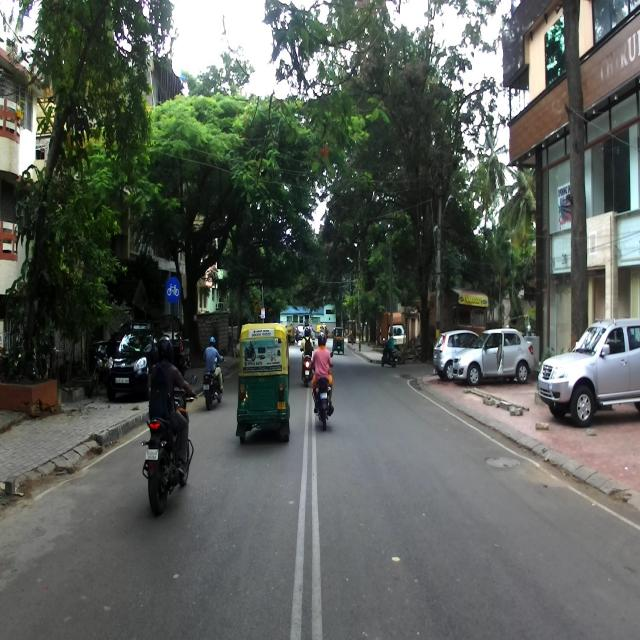autorickshaw: (234, 319, 290, 445)
car: (537, 320, 640, 422), (449, 331, 533, 383)
motorcycle: (142, 373, 198, 515)
